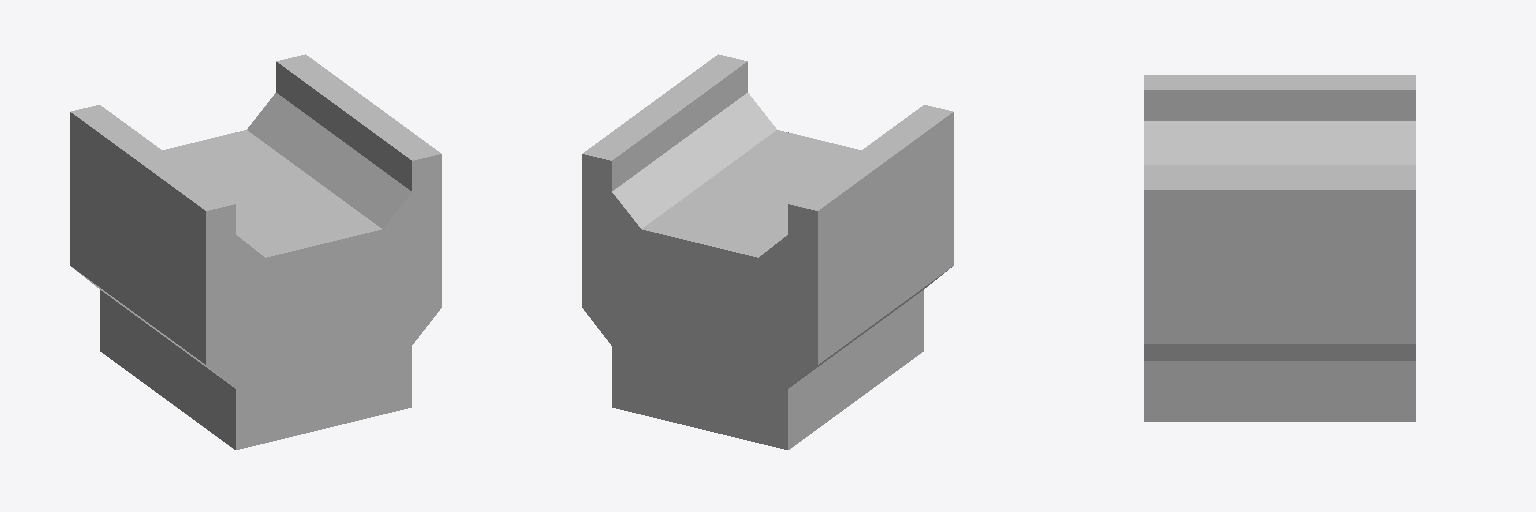
Rendered from pieceI.obj.
3 renders of one model, left to right at view 1: azimuth 30°, elevation 25°; view 2: azimuth 150°, elevation 25°; view 3: azimuth 270°, elevation 25°, orthographic.
Parts seen in each view (by area): view 1: Cube_Cube.005; view 2: Cube_Cube.005; view 3: Cube_Cube.005.
Part boxes in pixels (left/top/right/bottom): Cube_Cube.005: left=70, top=54, right=441, bottom=449; Cube_Cube.005: left=582, top=54, right=953, bottom=449; Cube_Cube.005: left=1144, top=75, right=1415, bottom=421.
Bounding box in the file's own units: 0.5 × 0.5 × 0.5.